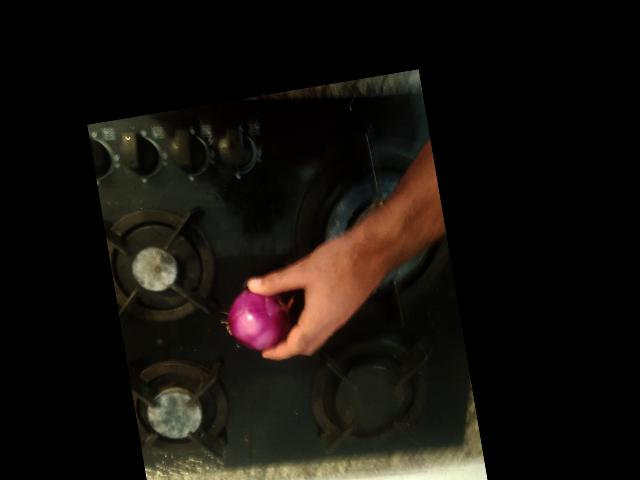onion: (200, 369, 283, 445)
